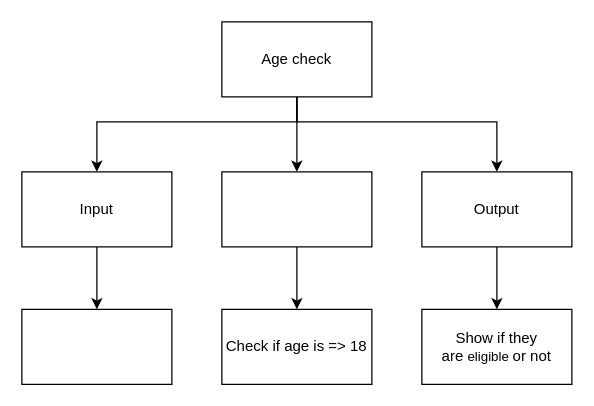
Some shapes in this 594 by 406 pixel diagram are drawn without their labels. Here are the shapes that lost their labels. From the top down, the centre of each, then its label:
At (296,209): "Process".
At (96,346): "Get age".
